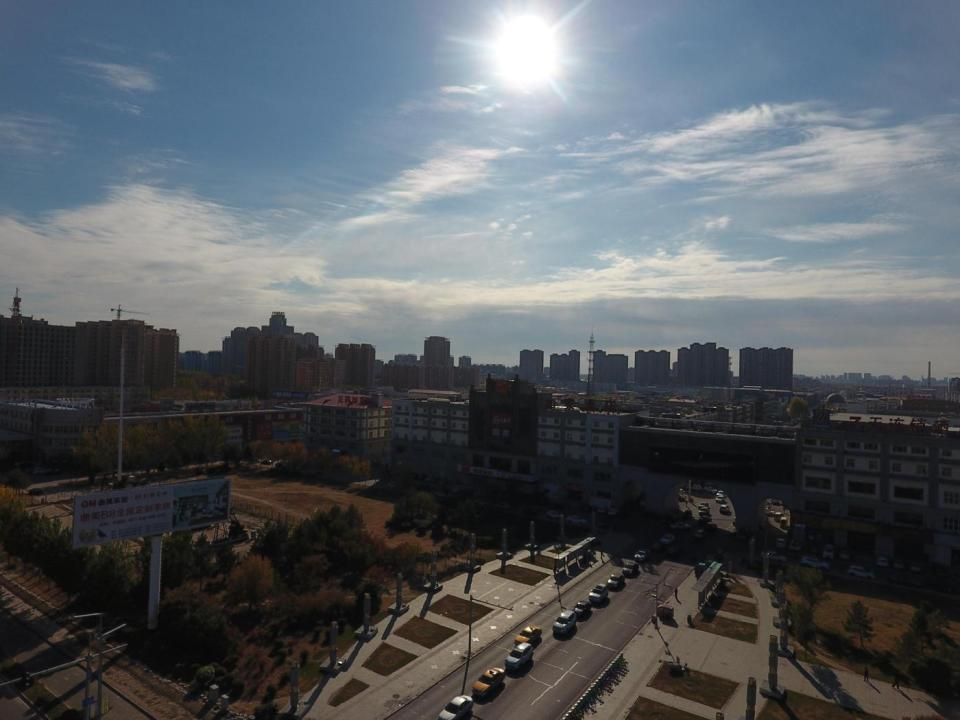car: (471, 666, 505, 696), (436, 694, 473, 720), (504, 642, 533, 670), (552, 610, 577, 636), (514, 625, 542, 646), (887, 574, 922, 588), (800, 555, 830, 570), (926, 578, 953, 594), (847, 565, 874, 580), (589, 583, 608, 603), (760, 549, 784, 563), (607, 573, 625, 590), (573, 601, 592, 617), (622, 561, 639, 577), (931, 563, 946, 578), (566, 515, 587, 525), (822, 544, 835, 560), (669, 521, 692, 530), (634, 549, 650, 561), (666, 544, 682, 556), (660, 533, 676, 545), (789, 540, 802, 553), (808, 543, 821, 556), (891, 557, 904, 570), (907, 560, 920, 573), (650, 541, 664, 553), (694, 529, 708, 540), (546, 510, 563, 519), (838, 548, 850, 560), (876, 556, 888, 568), (662, 513, 678, 522), (640, 511, 658, 519), (520, 507, 538, 515), (474, 498, 491, 506), (775, 538, 786, 550), (415, 484, 430, 492), (704, 522, 717, 531), (698, 515, 712, 523), (549, 503, 565, 510), (494, 502, 510, 509), (719, 504, 730, 514), (697, 507, 710, 515), (704, 486, 717, 494), (683, 509, 693, 519), (617, 510, 631, 517), (596, 506, 608, 514), (584, 505, 596, 513), (607, 508, 620, 515), (433, 491, 448, 497), (698, 501, 709, 509), (715, 495, 726, 503), (704, 482, 718, 488), (717, 489, 726, 497), (389, 482, 400, 488), (451, 487, 464, 492), (247, 458, 260, 463), (418, 474, 430, 479), (274, 462, 286, 467), (424, 476, 435, 481), (431, 477, 441, 482), (261, 460, 271, 464)
truck: (686, 483, 702, 491)
van: (672, 494, 685, 500)
